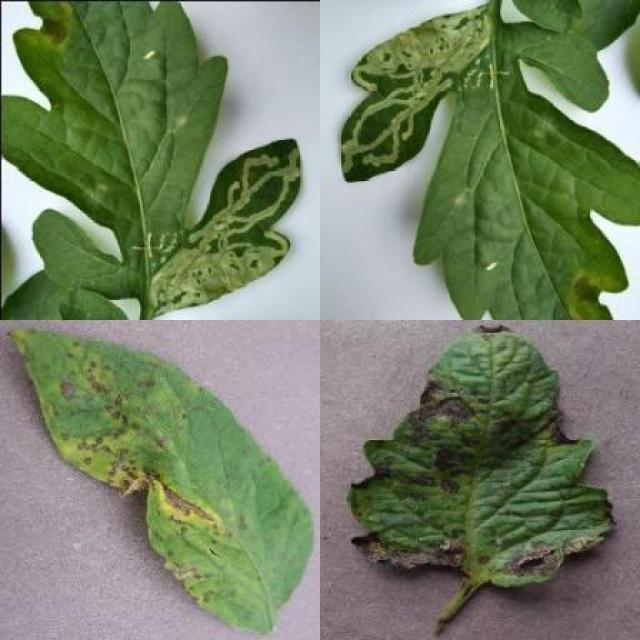Early Blight: (347, 324, 614, 592)
Leaf Miner: (338, 0, 640, 320), (0, 0, 301, 320)
Septoria: (12, 329, 314, 634)
